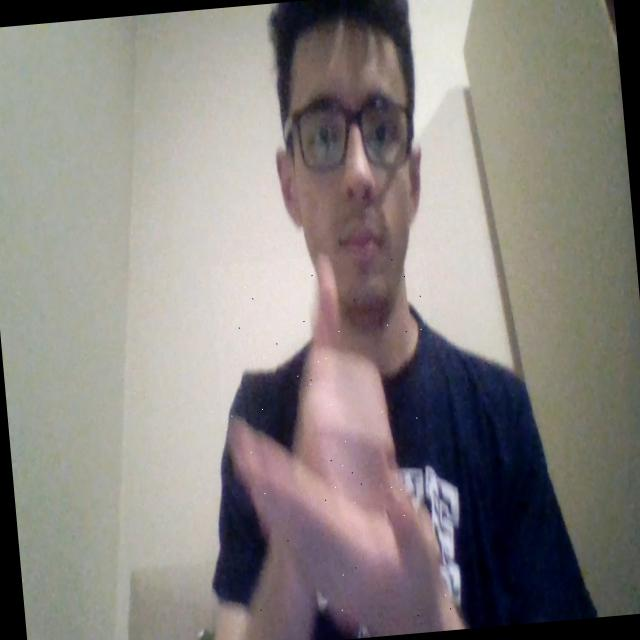help: (209, 247, 457, 640)
